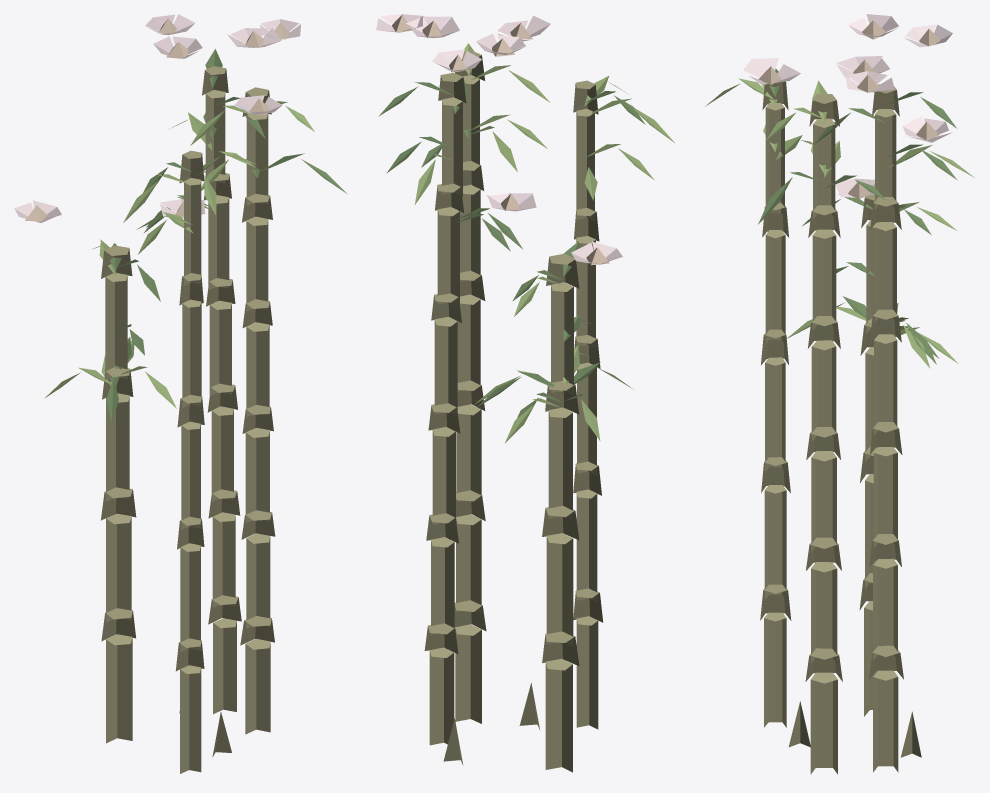
Rendered from hua.zhu@flowering__summer.glb.
3 views of the same model, side by side, from view 1: azimuth 30°, elevation 25°; view 2: azimuth 150°, elevation 25°; view 3: azimuth 270°, elevation 25° (orthographic). The views are drawn at different scales.
Parts seen in each view (by area): view 1: hua.zhu@flowering__summer; view 2: hua.zhu@flowering__summer; view 3: hua.zhu@flowering__summer.
Part boxes in pixels (bbox=[...]): hua.zhu@flowering__summer: bbox=[14, 14, 347, 773]; hua.zhu@flowering__summer: bbox=[376, 14, 674, 772]; hua.zhu@flowering__summer: bbox=[705, 14, 974, 774].
Size of the model in its own units: 2.29 by 5.83 by 1.98.
